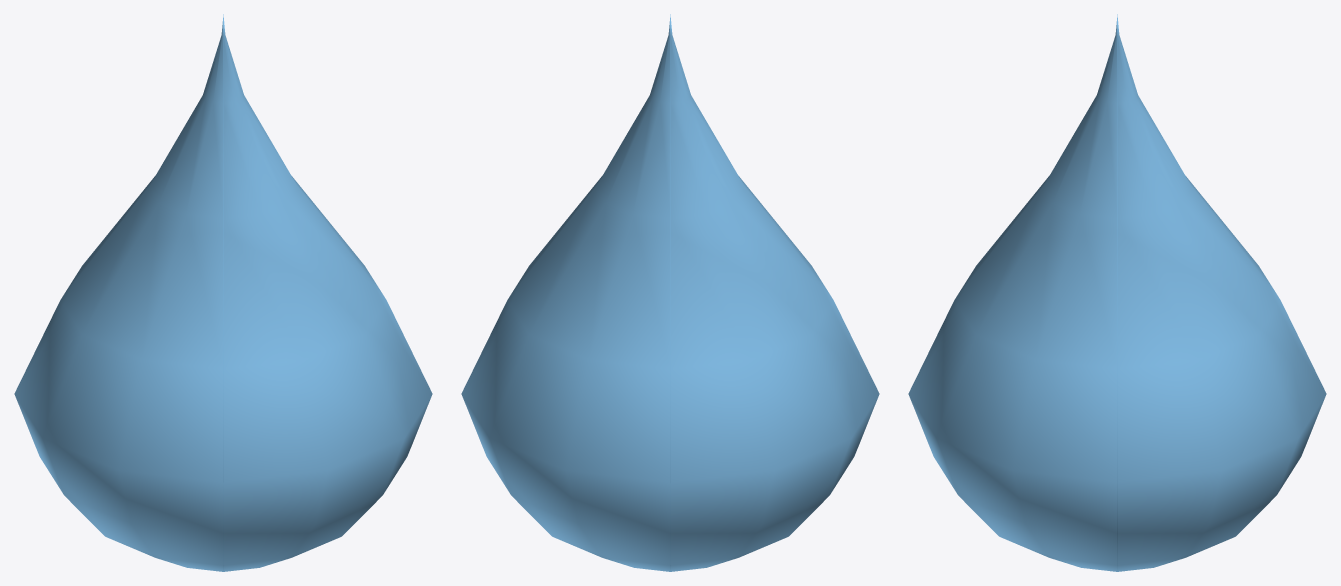
Rendered from water_droplet.glb.
The picture shows the model from 3 angles, left to right: view 1: azimuth 30°, elevation 25°; view 2: azimuth 150°, elevation 25°; view 3: azimuth 270°, elevation 25°; orthographic projection.
Visible parts, largest first — view 1: water_droplet; view 2: water_droplet; view 3: water_droplet.
Boxes of the visible parts, x1=… form: water_droplet: x1=14, y1=14, x2=432, y2=571; water_droplet: x1=461, y1=14, x2=879, y2=571; water_droplet: x1=908, y1=14, x2=1326, y2=571.
Size of the model in its own units: 0.0985 by 0.14 by 0.0985.
